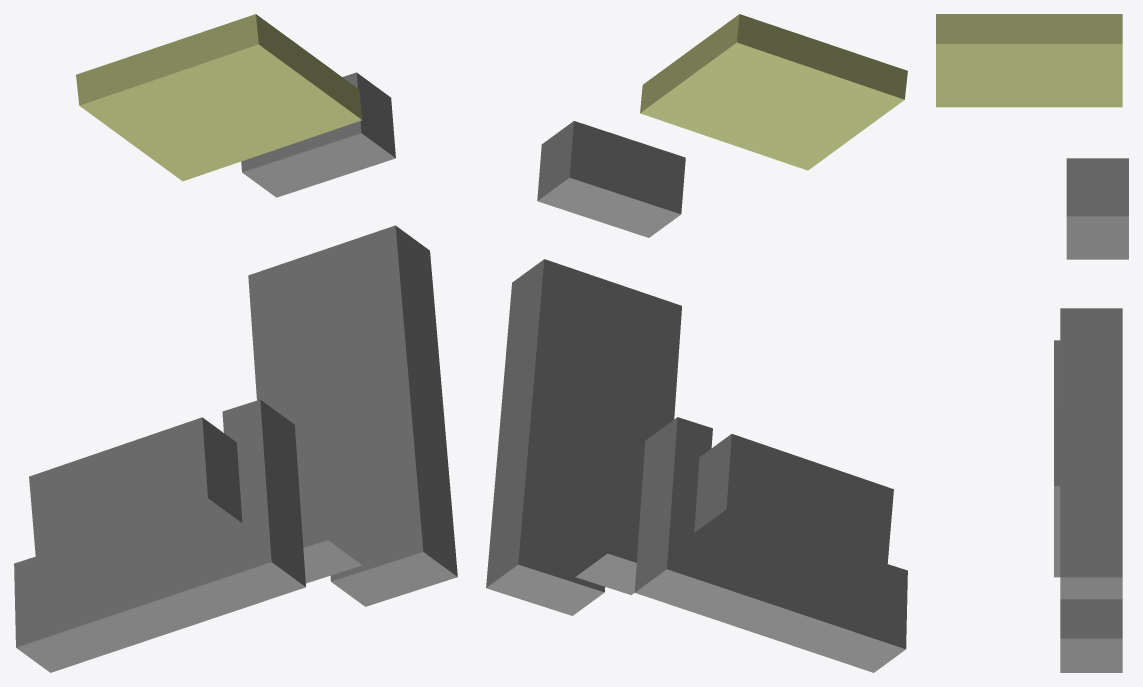
3 views of the same model, side by side, from view 1: azimuth 30°, elevation 25°; view 2: azimuth 150°, elevation 25°; view 3: azimuth 270°, elevation 25° (orthographic). The views are drawn at different scales.
Parts seen in each view (by area): view 1: 0_2_3_3_3_1_0_2_3_2; view 2: 0_2_3_3_3_1_0_2_3_2; view 3: 0_2_3_3_3_1_0_2_3_2.
Boxes of the visible parts, box(x1,y1,x2,y2) form: 0_2_3_3_3_1_0_2_3_2: box(14, 14, 457, 672); 0_2_3_3_3_1_0_2_3_2: box(486, 14, 907, 672); 0_2_3_3_3_1_0_2_3_2: box(936, 14, 1128, 672).
Bounding box in the file's own units: 20.73 × 28.11 × 9.31.
